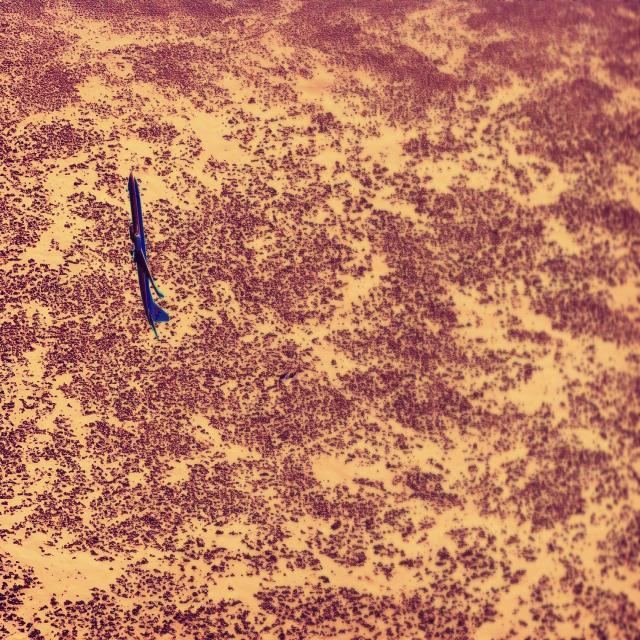airplane: (127, 169, 169, 340)
